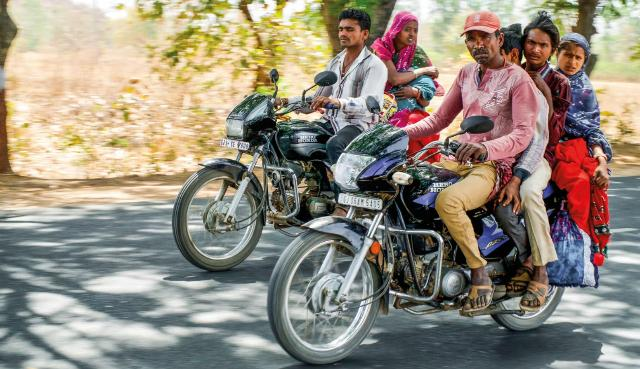licensePlate: (339, 192, 387, 213), (214, 133, 258, 151)
motorcycle: (270, 0, 614, 364), (173, 6, 439, 264)
withoutHelmet: (459, 9, 498, 61), (523, 10, 554, 62), (560, 29, 590, 77), (334, 12, 368, 48), (390, 15, 424, 44), (504, 25, 522, 63)
